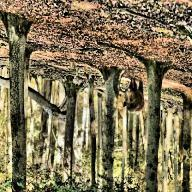boar: (120, 80, 147, 119)
